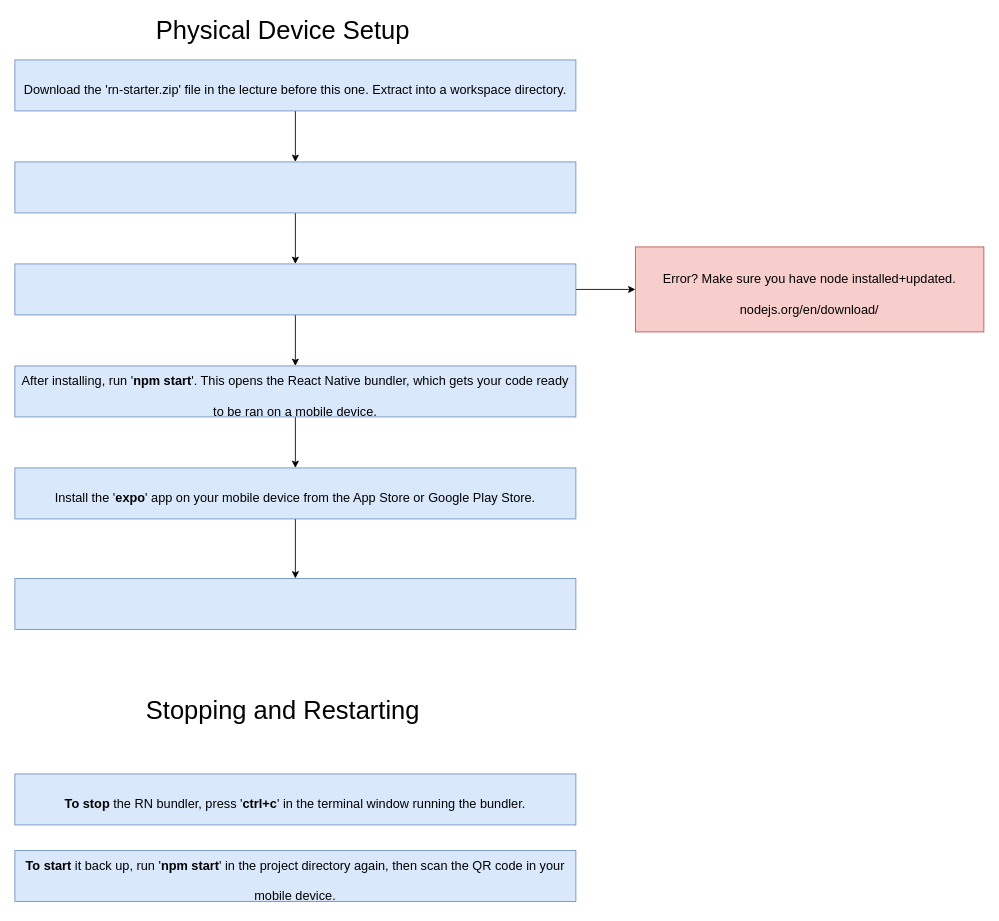
Image size: 999x921. Some labels were removed from this diagram. The centre of each missing label's shape, as x and y in pixels:
In your terminal, change into the 'rn-starter' folder that was just created.: [295,187]
In your terminal, run ' npm install ': [295,289]
Scan the QR code from the React Native Bundler on your phone.: [295,603]
